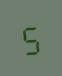five: (19, 20, 41, 55)
